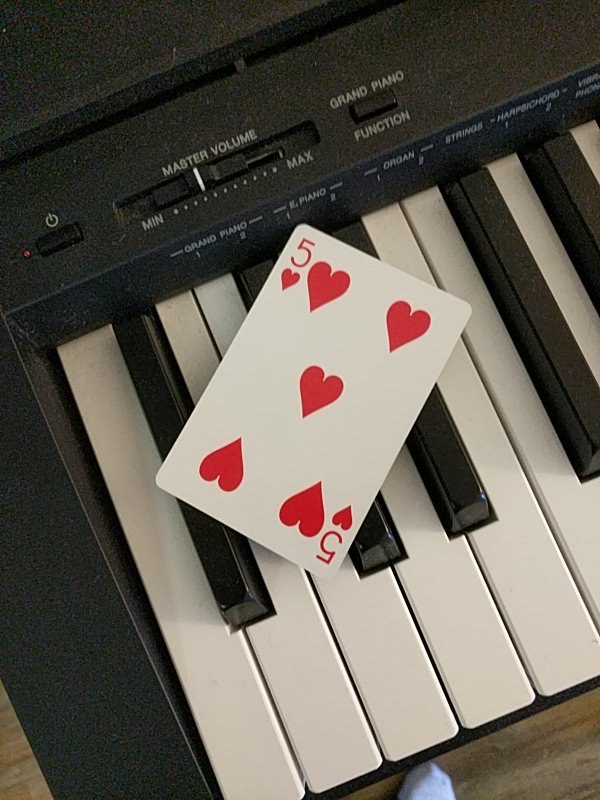Hearts: (155, 222, 473, 578)
